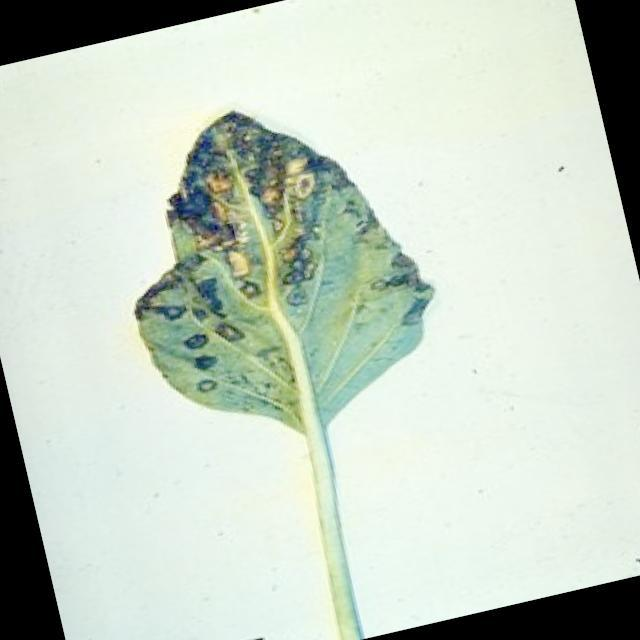Tomato bacterial spot leaf: (92, 69, 460, 458)
